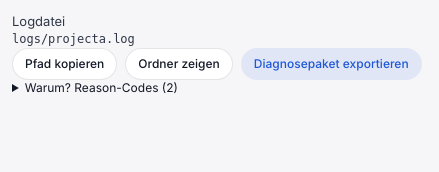
Test: DiagnoseSection actions › copies the path and says so, or says copying failed
Click the button "Pfad kopieren" at (65, 64), box [12,48,117,80]
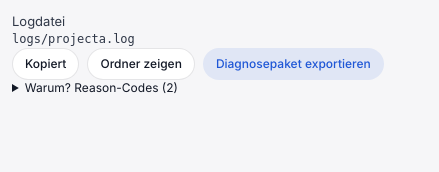
Expected: the button "Kopiert" is shown
Click the button "Kopiert" at (46, 64), box [12,48,80,80]
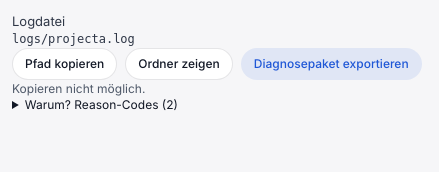
Expected: the text "Kopieren nicht möglich." is shown, [12,81,145,96]
